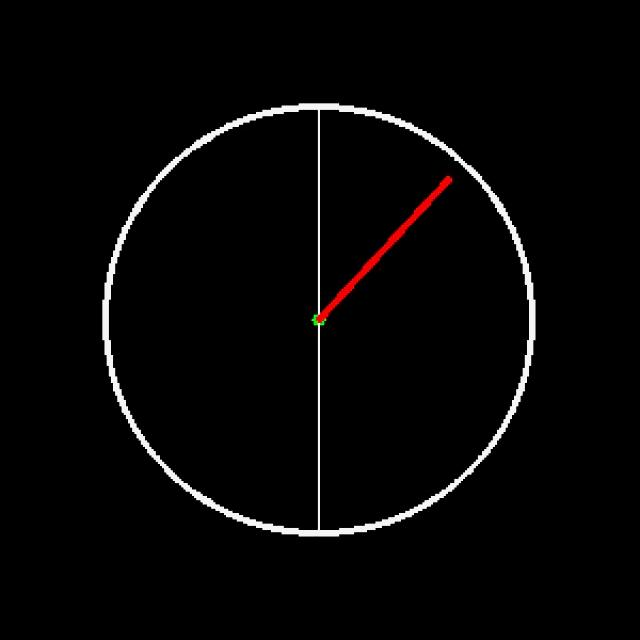Needle_Tip: (420, 160, 466, 202)
Needle_base: (281, 284, 343, 357)
